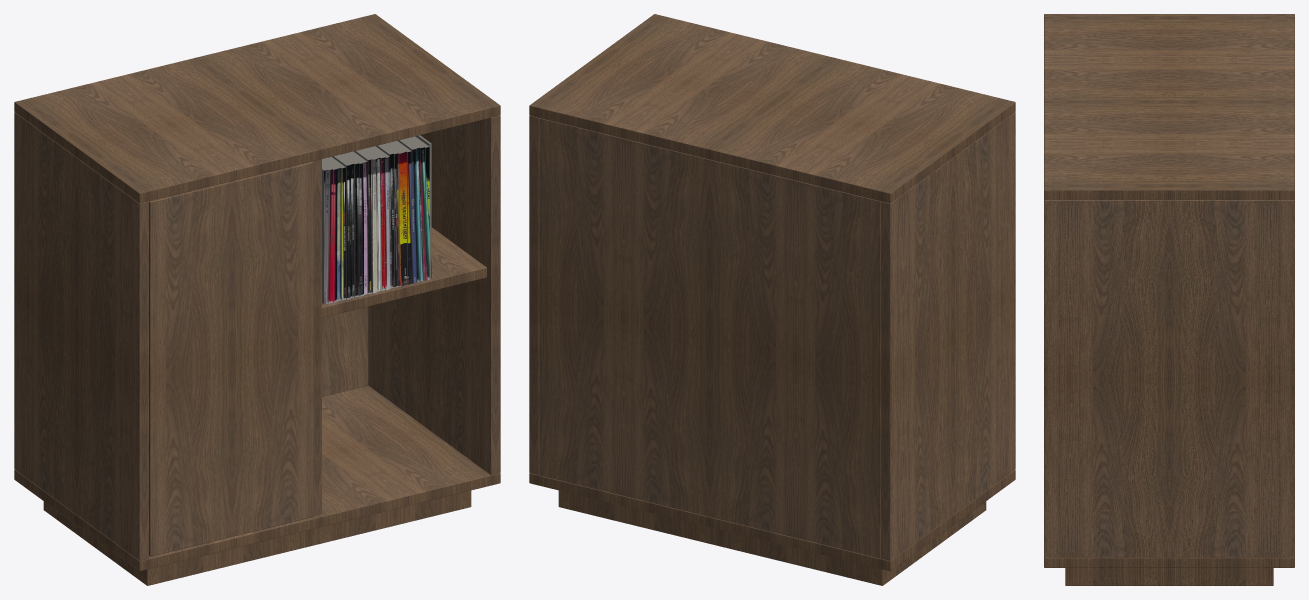
The model's file is music-cabinet.glb.
The picture shows the model from 3 angles, left to right: view 1: azimuth 30°, elevation 25°; view 2: azimuth 150°, elevation 25°; view 3: azimuth 270°, elevation 25°; orthographic projection.
Parts seen in each view (by area): view 1: Reference walnut veneer, Photographic collection spines, Sleeve folded paper edges; view 2: Reference walnut veneer; view 3: Reference walnut veneer.
Part boxes in pixels (x1,y1,x2,y2): Reference walnut veneer: (14, 14, 500, 585); Photographic collection spines: (324, 147, 429, 304); Sleeve folded paper edges: (322, 135, 431, 304); Reference walnut veneer: (529, 14, 1015, 585); Reference walnut veneer: (1044, 14, 1294, 585).
Size of the model in its own units: 0.882 by 0.945 by 0.53.
4 materials, 3 textured.
